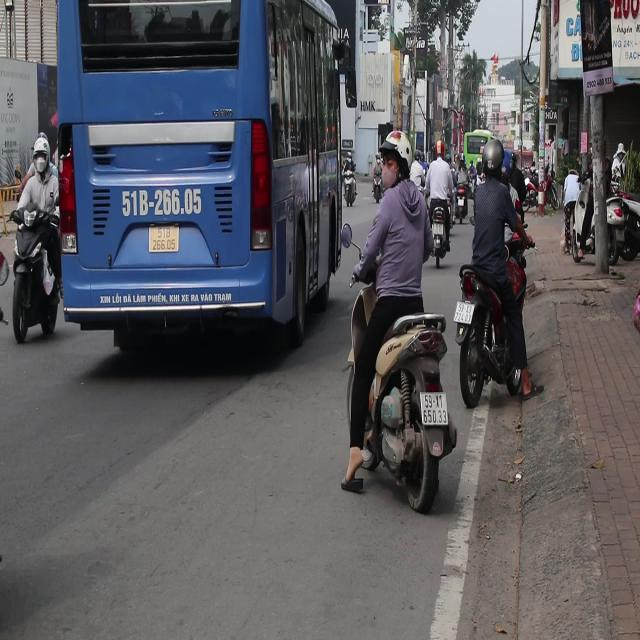bus: (38, 1, 343, 348), (463, 130, 498, 174)
motorbike: (361, 298, 457, 512), (456, 259, 532, 437), (0, 212, 59, 366), (598, 154, 640, 272), (428, 204, 447, 282), (453, 187, 469, 224), (344, 171, 361, 199), (469, 174, 479, 198), (375, 176, 382, 209)
